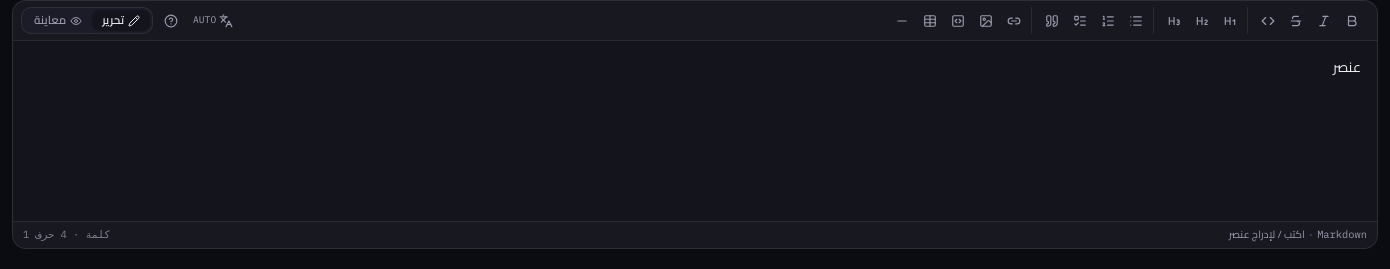
MarkdownEditor › turns the current line into a bullet
The image size is (1390, 269).
Click the button named "قائمة نقطية".
click(1136, 20)  # box [1122,7,1149,34]
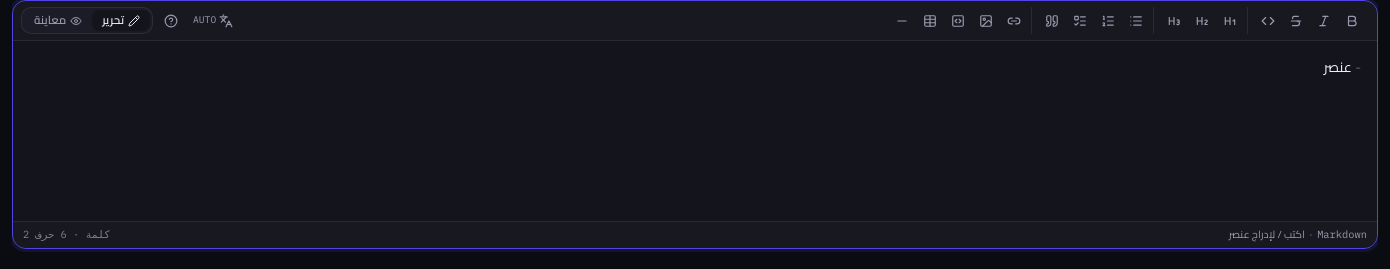
Now the text box named "الوصف" holds "- عنصر"
